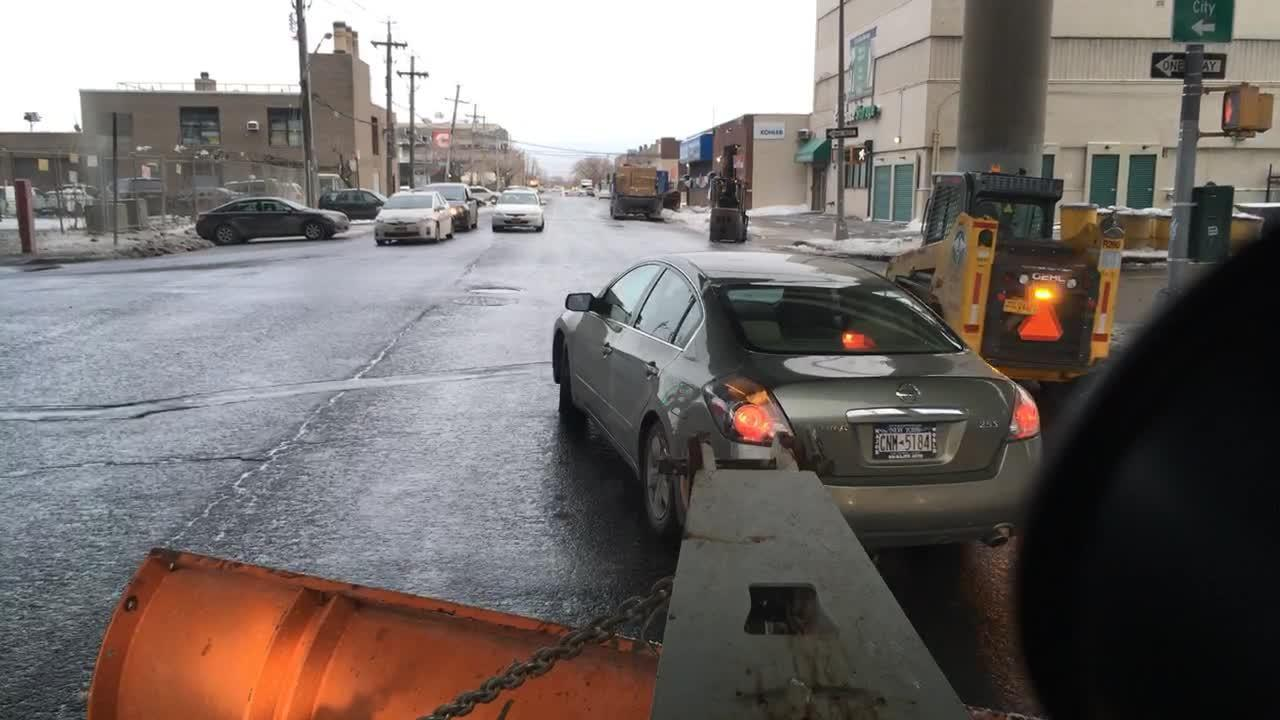Nissan: (894, 378, 922, 405)
